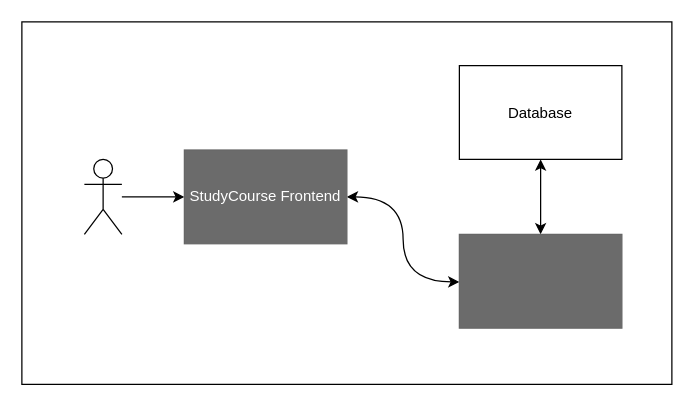
Some shapes in this 694 by 406 pixel diagram are drawn without their labels. Here are the shapes that lost their labels. From the top down, the centre of each, then its label:
At [102,196]: "User".
At [540,280]: "StudyCourse Backend".
